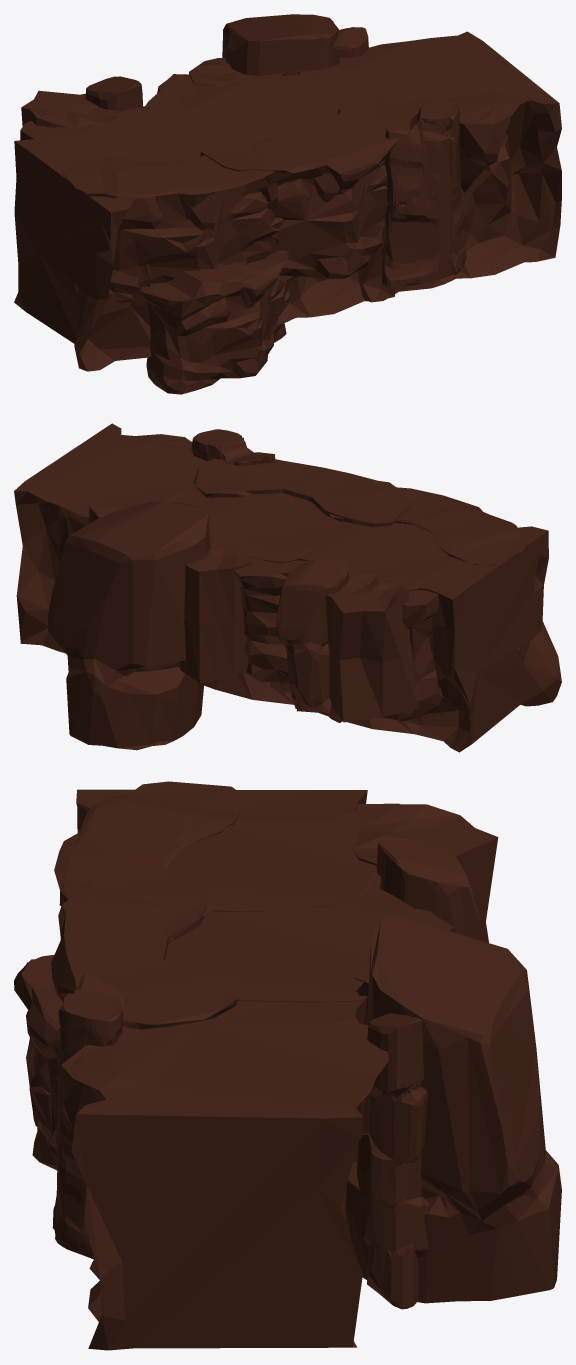
Rendered from sc_FeiTu_mesh_shan3.FBX.
The picture shows the model from 3 angles, top to bottom: view 1: azimuth 30°, elevation 25°; view 2: azimuth 150°, elevation 25°; view 3: azimuth 270°, elevation 25°; orthographic projection. The views are drawn at different scales.
Visible parts, largest first — view 1: mesh_shan3; view 2: mesh_shan3; view 3: mesh_shan3.
Part boxes in pixels (x1,y1,x2,y2): mesh_shan3: (14, 14, 561, 394); mesh_shan3: (14, 423, 561, 752); mesh_shan3: (14, 781, 561, 1350).
Bounding box in the file's own units: 2120 × 934 × 1404.
